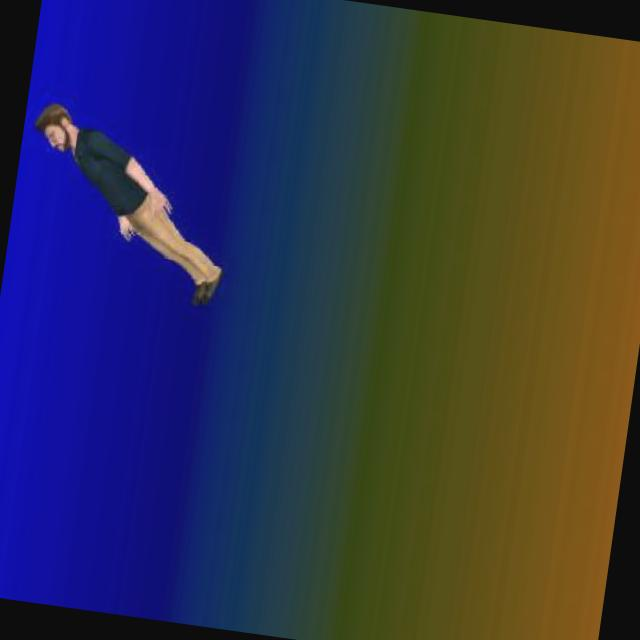Person: (12, 97, 247, 314)
